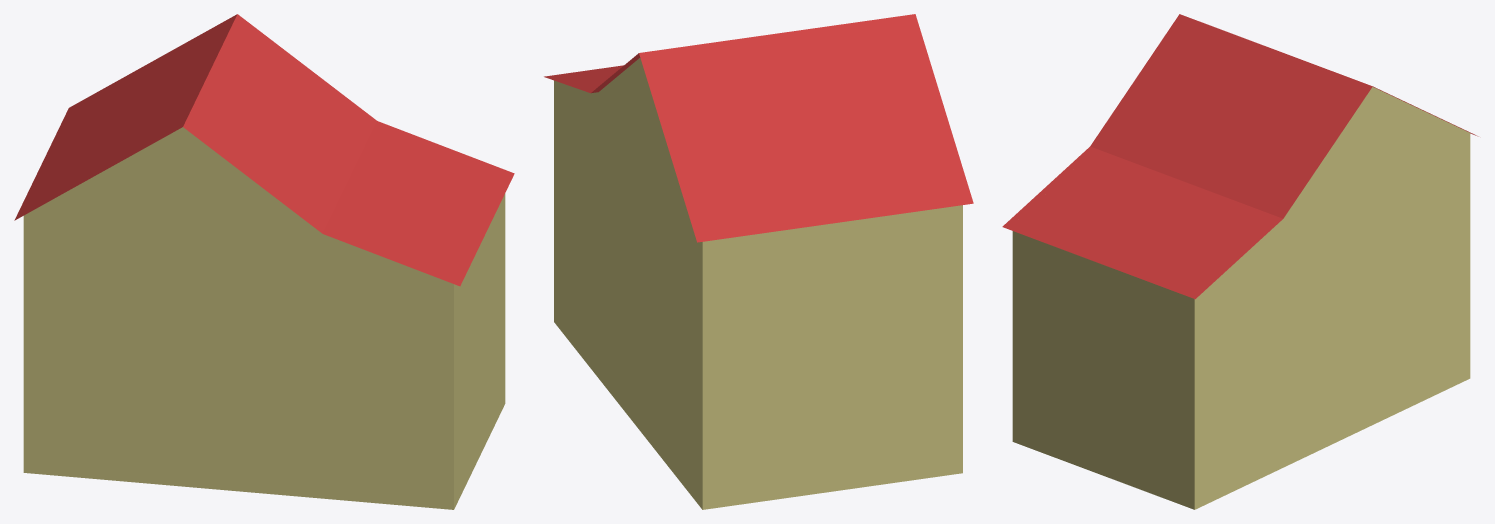
3 views of the same model, side by side, from view 1: azimuth 30°, elevation 25°; view 2: azimuth 150°, elevation 25°; view 3: azimuth 270°, elevation 25° (orthographic). The views are drawn at different scales.
Bounding box in the file's own units: 16.53 × 16.03 × 12.69.
